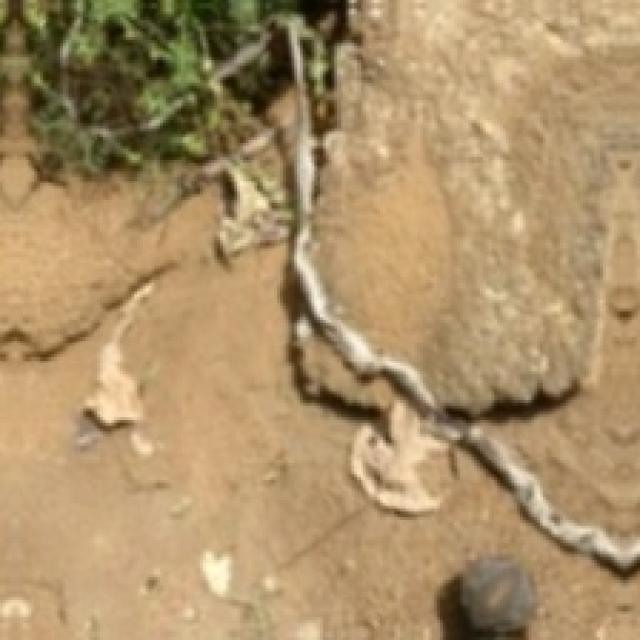king cobra: (311, 0, 637, 414), (437, 420, 637, 566)
